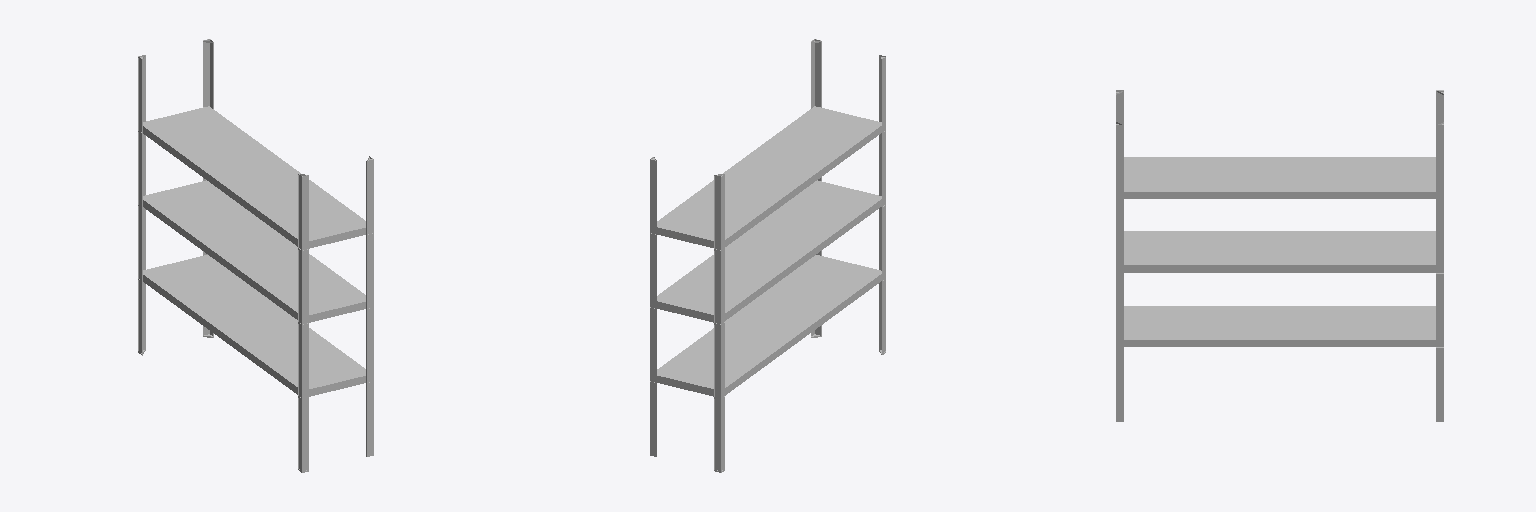
Rendered from rack.obj.
3 renders of one model, left to right at view 1: azimuth 30°, elevation 25°; view 2: azimuth 150°, elevation 25°; view 3: azimuth 270°, elevation 25°, orthographic.
Parts seen in each view (by area): view 1: Cube.003_Cube.005; view 2: Cube.003_Cube.005; view 3: Cube.003_Cube.005.
Part boxes in pixels (left/top/right/bottom): Cube.003_Cube.005: left=138, top=39, right=373, bottom=472; Cube.003_Cube.005: left=650, top=39, right=885, bottom=472; Cube.003_Cube.005: left=1116, top=90, right=1443, bottom=421.
Size of the model in its own units: 1.01 by 4 by 4.02.